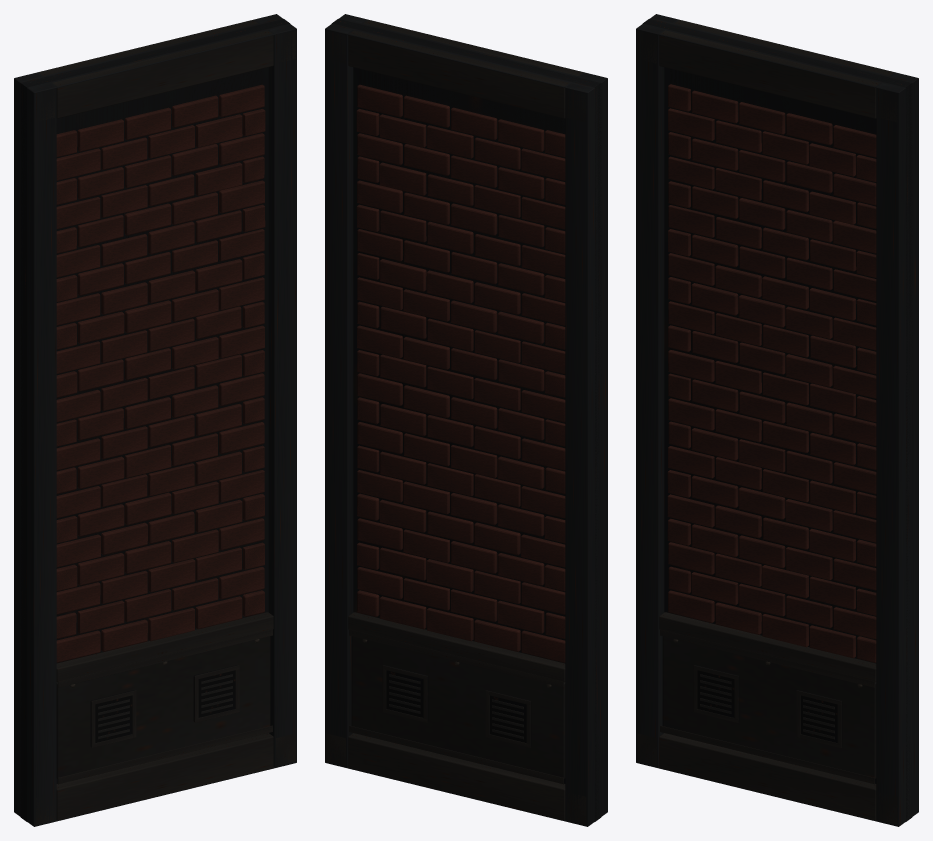
File: STK_ENV_Street_Wall_1p2_A_Production_v12.glb
The picture shows the model from 3 angles, left to right: view 1: azimuth 30°, elevation 25°; view 2: azimuth 150°, elevation 25°; view 3: azimuth 330°, elevation 25°; orthographic projection.
Visible parts, largest first — view 1: Frame_Left, WallCore, Frame_Right, ServicePanel, Brick_MortarBed, Profile_Left_Cap, Frame_Header, Frame_Footer, Rear_Frame_Left, Brick_LowerTrim, Profile_Top_Cap, ServicePanel_BottomLip (+106 smaller); view 2: Rear_Frame_Right, WallCore, Rear_Frame_Left, Rear_ServicePanel, Profile_Left_Cap, Rear_Brick_MortarBed, Rear_Frame_Header, Rear_Frame_Footer, Frame_Left, Rear_Brick_LowerTrim, Profile_Top_Cap, Rear_ServicePanel_BottomLip (+106 smaller); view 3: Frame_Left, WallCore, Frame_Right, ServicePanel, Profile_Right_Cap, Brick_MortarBed, Frame_Header, Frame_Footer, Rear_Frame_Right, Brick_LowerTrim, Profile_Top_Cap, ServicePanel_BottomLip (+106 smaller).
Part boxes in pixels (left/top/right/bottom): Frame_Left: left=28, top=83, right=56, bottom=825; WallCore: left=20, top=19, right=289, bottom=821; Frame_Right: left=268, top=24, right=296, bottom=767; ServicePanel: left=56, top=636, right=270, bottom=778; Brick_MortarBed: left=56, top=69, right=263, bottom=649; Profile_Left_Cap: left=14, top=78, right=34, bottom=826; Frame_Header: left=52, top=30, right=273, bottom=118; Frame_Footer: left=56, top=733, right=273, bottom=820; Rear_Frame_Left: left=14, top=73, right=40, bottom=814; Brick_LowerTrim: left=56, top=612, right=273, bottom=682; Profile_Top_Cap: left=15, top=14, right=296, bottom=93; ServicePanel_BottomLip: left=58, top=725, right=272, bottom=784; Rear_Frame_Right: left=325, top=24, right=353, bottom=767; WallCore: left=332, top=19, right=601, bottom=821; Rear_Frame_Left: left=565, top=83, right=593, bottom=825; Rear_ServicePanel: left=351, top=636, right=565, bottom=778; Profile_Left_Cap: left=587, top=78, right=607, bottom=826; Rear_Brick_MortarBed: left=358, top=69, right=565, bottom=651; Rear_Frame_Header: left=348, top=30, right=569, bottom=118; Rear_Frame_Footer: left=348, top=733, right=565, bottom=820; Frame_Left: left=581, top=73, right=607, bottom=814; Rear_Brick_LowerTrim: left=348, top=612, right=565, bottom=682; Profile_Top_Cap: left=325, top=14, right=607, bottom=93; Rear_ServicePanel_BottomLip: left=349, top=725, right=563, bottom=784; Frame_Left: left=636, top=24, right=664, bottom=767; WallCore: left=643, top=19, right=912, bottom=821; Frame_Right: left=876, top=83, right=904, bottom=825; ServicePanel: left=662, top=636, right=876, bottom=778; Profile_Right_Cap: left=898, top=78, right=918, bottom=826; Brick_MortarBed: left=669, top=69, right=876, bottom=656; Frame_Header: left=659, top=30, right=880, bottom=118; Frame_Footer: left=659, top=733, right=876, bottom=820; Rear_Frame_Right: left=892, top=73, right=918, bottom=814; Brick_LowerTrim: left=659, top=612, right=876, bottom=682; Profile_Top_Cap: left=636, top=14, right=918, bottom=93; ServicePanel_BottomLip: left=660, top=725, right=874, bottom=784.
Size of the model in its own units: 1.2 by 3.2 by 0.16.
9 materials, 9 textured.
